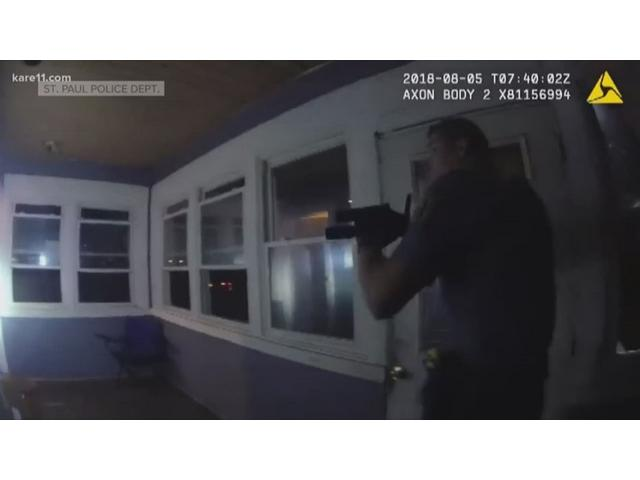rifle: (318, 203, 425, 261)
